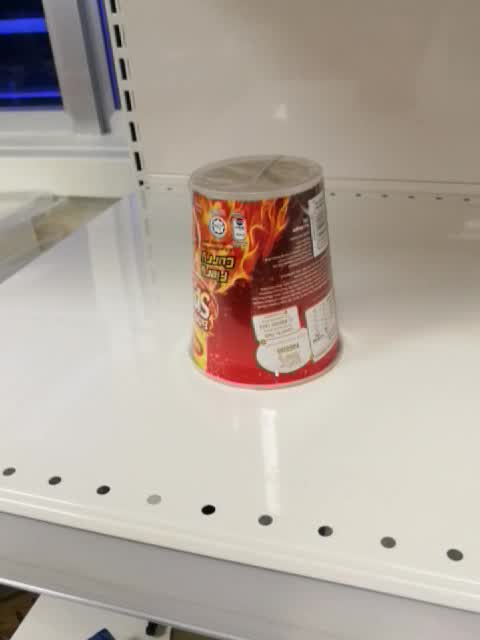maggi: (188, 152, 345, 392)
